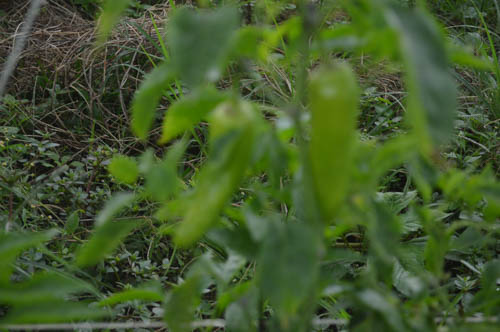ChiliPepper: (177, 109, 253, 250), (303, 65, 365, 212)
